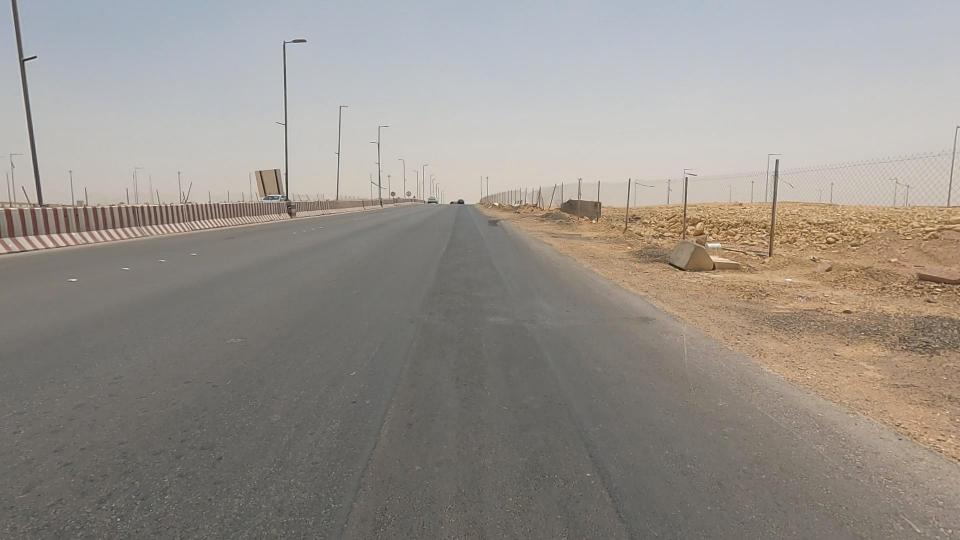CONSTRUCTION_ROAD: (63, 174, 248, 256), (0, 175, 154, 260), (177, 174, 309, 244), (281, 179, 369, 235)
GARBAGE: (676, 210, 744, 280)
